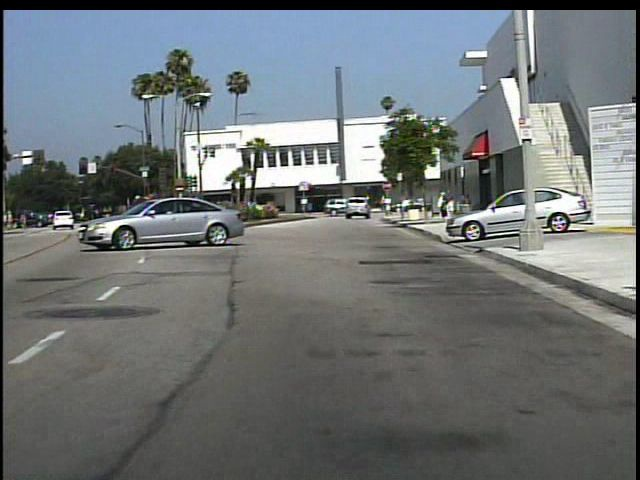person: (444, 188, 459, 224), (379, 190, 397, 219), (437, 192, 447, 220), (462, 190, 474, 205)
